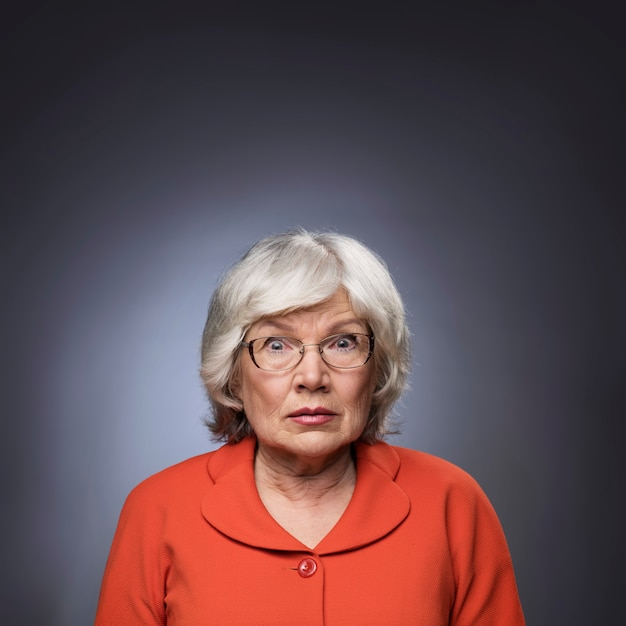young: (197, 231, 414, 478)
